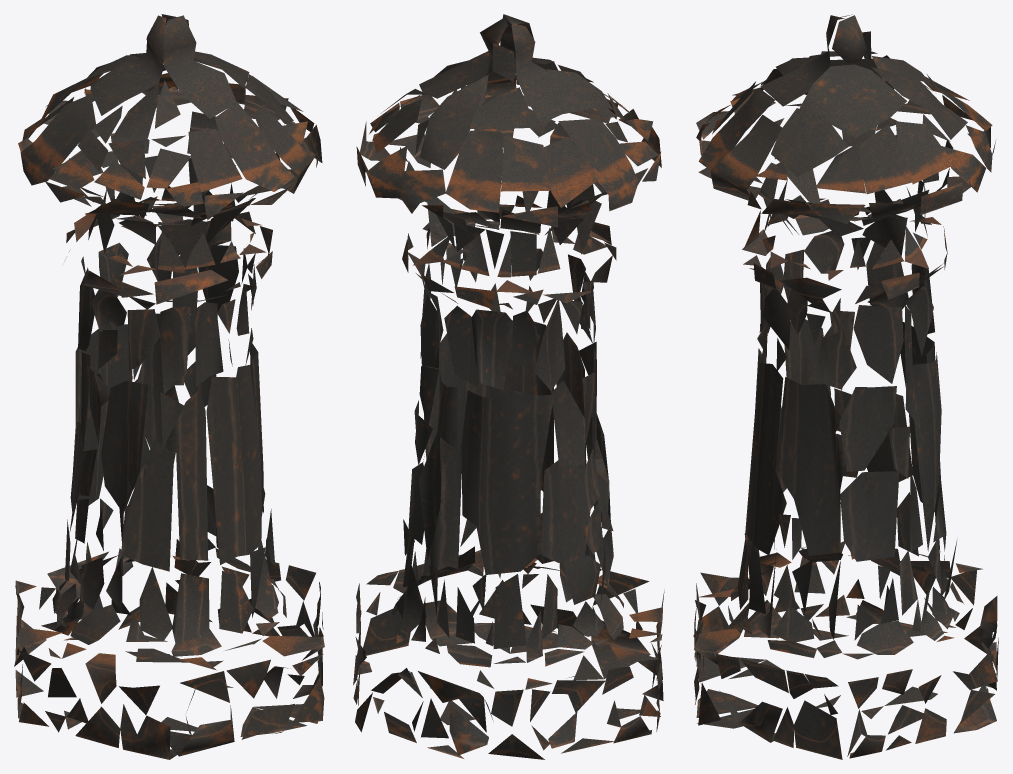
File: bitta_ormeggio_lod2.glb
3 renders of one model, left to right at view 1: azimuth 30°, elevation 25°; view 2: azimuth 150°, elevation 25°; view 3: azimuth 270°, elevation 25°, orthographic.
Visible parts, largest first — view 1: Mesh_0.001; view 2: Mesh_0.001; view 3: Mesh_0.001.
Boxes of the visible parts, bbox=[...] form: Mesh_0.001: bbox=[14, 14, 324, 759]; Mesh_0.001: bbox=[353, 14, 664, 759]; Mesh_0.001: bbox=[693, 14, 998, 759].
Bounding box in the file's own units: 0.4696 × 1 × 0.4117.
1 material, 1 textured.
